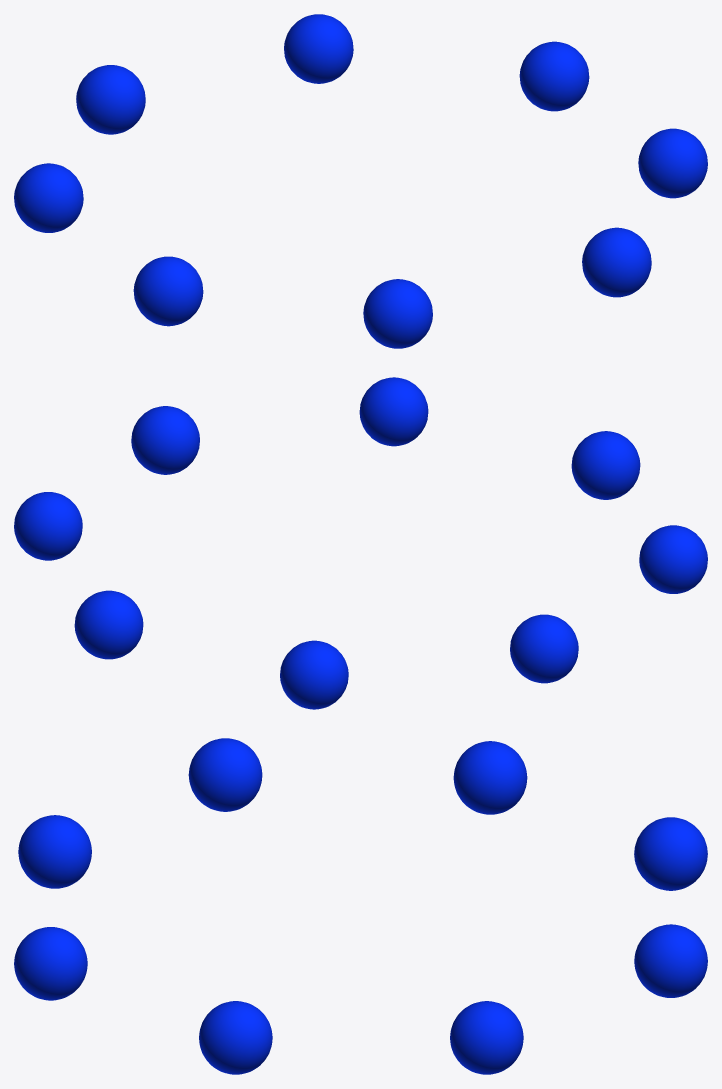
The picture shows the model from 3 angles, top to bottom: view 1: azimuth 30°, elevation 25°; view 2: azimuth 150°, elevation 25°; view 3: azimuth 270°, elevation 25°; orthographic projection. The views are drawn at different scales.
Parts seen in each view (by area): view 1: Sphere046; view 2: Sphere046; view 3: Sphere046.
Boxes of the visible parts, left/top/right/bottom form: Sphere046: left=14, top=14, right=707, bottom=348; Sphere046: left=14, top=377, right=707, bottom=709; Sphere046: left=14, top=738, right=707, bottom=1074.
Size of the model in its own units: 77.49 by 8.22 by 77.29.
